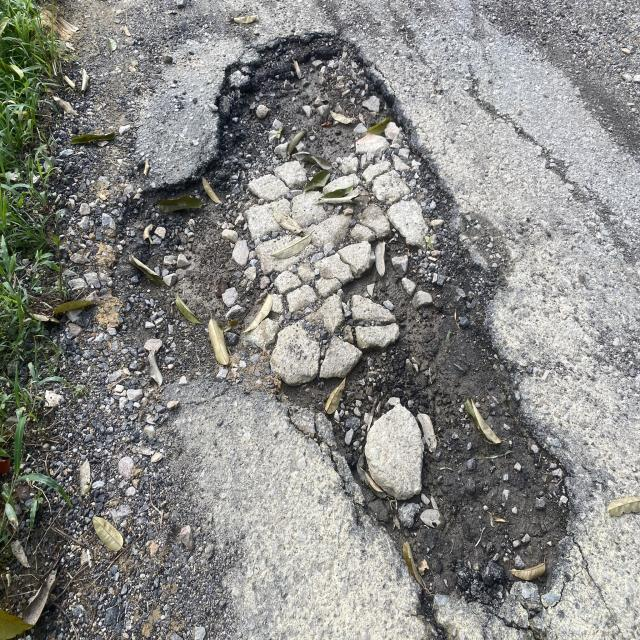Pothole: (97, 12, 504, 286)
